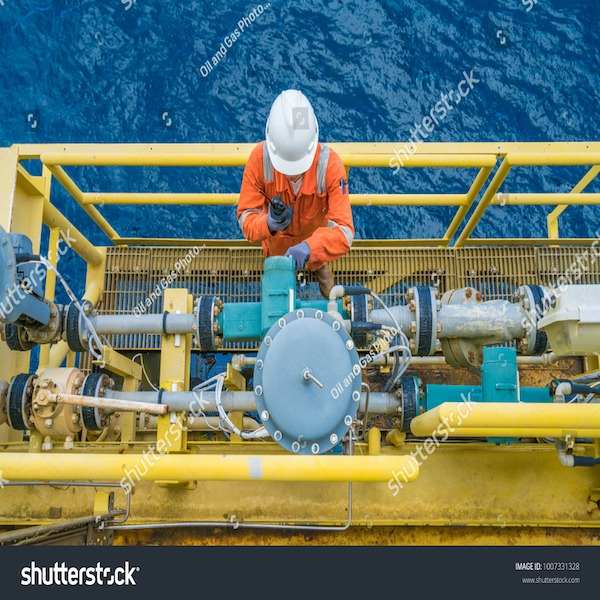helmet: (267, 93, 322, 172)
vest: (241, 164, 354, 260)
